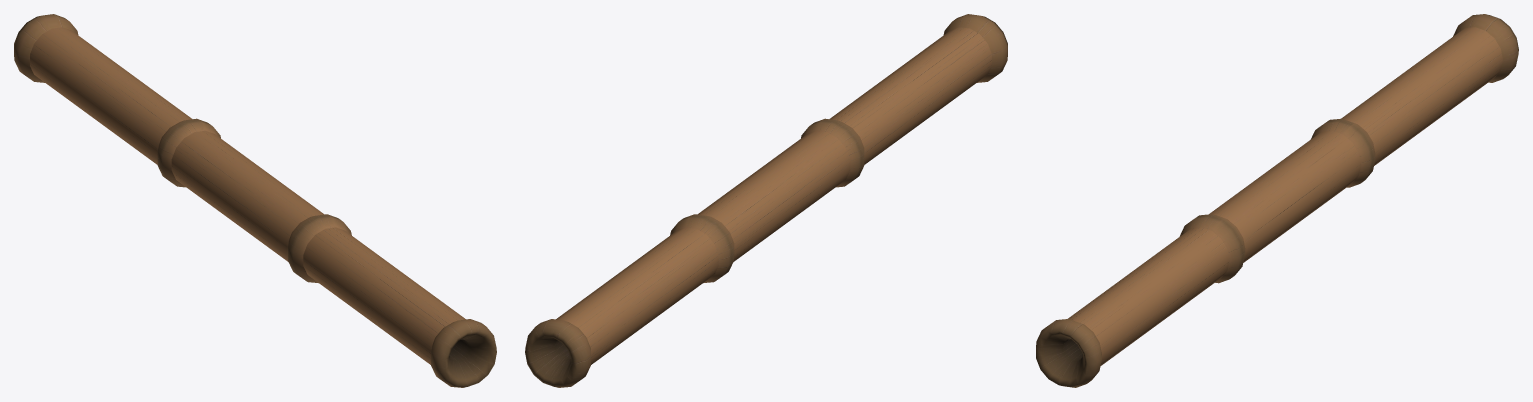
File: fukiya.FBX
3 renders of one model, left to right at view 1: azimuth 30°, elevation 25°; view 2: azimuth 150°, elevation 25°; view 3: azimuth 330°, elevation 25°, orthographic.
Parts seen in each view (by area): view 1: fukiya; view 2: fukiya; view 3: fukiya.
Boxes of the visible parts, left/top/right/bottom form: fukiya: left=14, top=14, right=496, bottom=387; fukiya: left=525, top=14, right=1007, bottom=387; fukiya: left=1036, top=14, right=1518, bottom=387.
Bounding box in the file's own units: 2.02 × 2.03 × 24.96.
